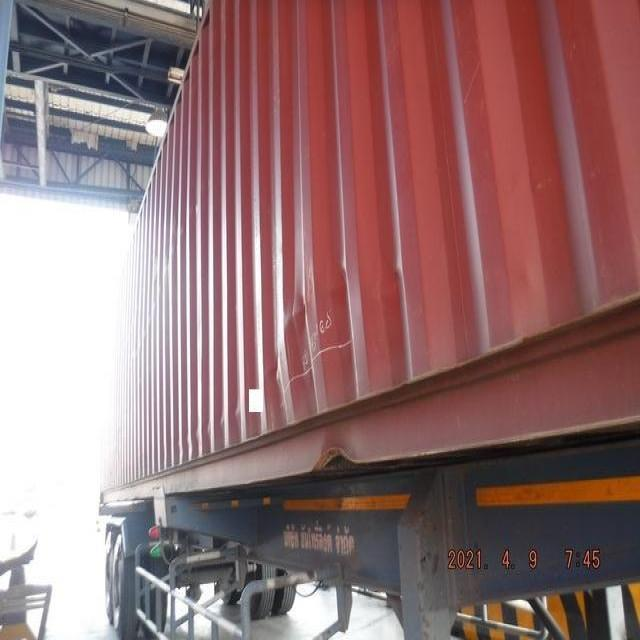dent: (258, 250, 372, 384), (355, 242, 420, 317)
